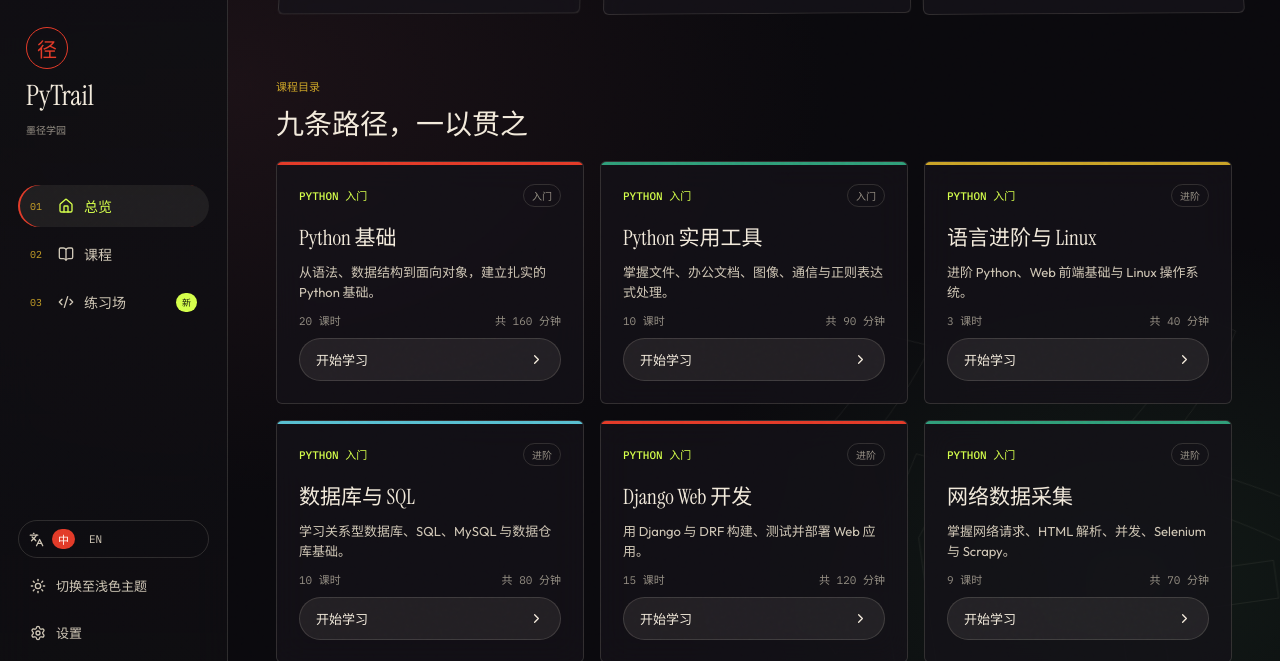
it: on-demand course and lesson workflow › renders every quick check of a multi-exercise lesson
The width and height of the screenshot is (1280, 661).
(page scrolled)
Click the button "开始学习" below "20 课时" at (342, 360), box [299,338,561,381]
(page scrolled)
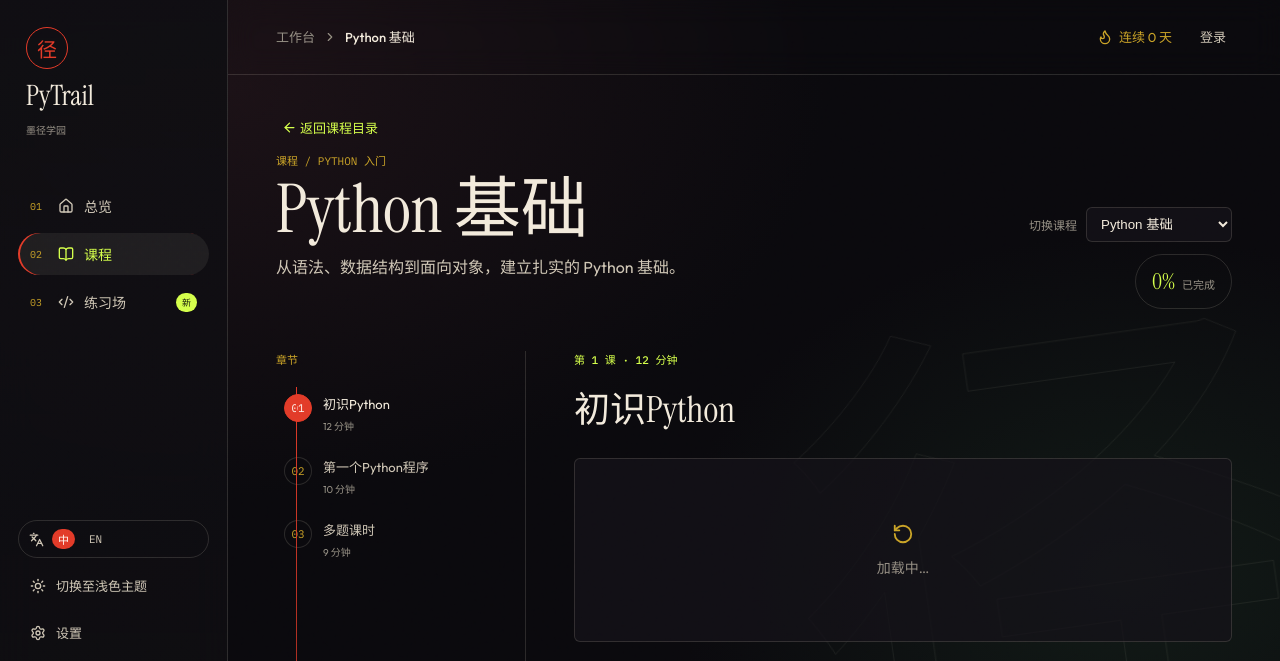
Result: the heading "初识Python" is shown at [574,386,735,433]
Click the button "03 多题课时 9 分钟" at (388, 540), box [276,508,501,571]
(page scrolled)
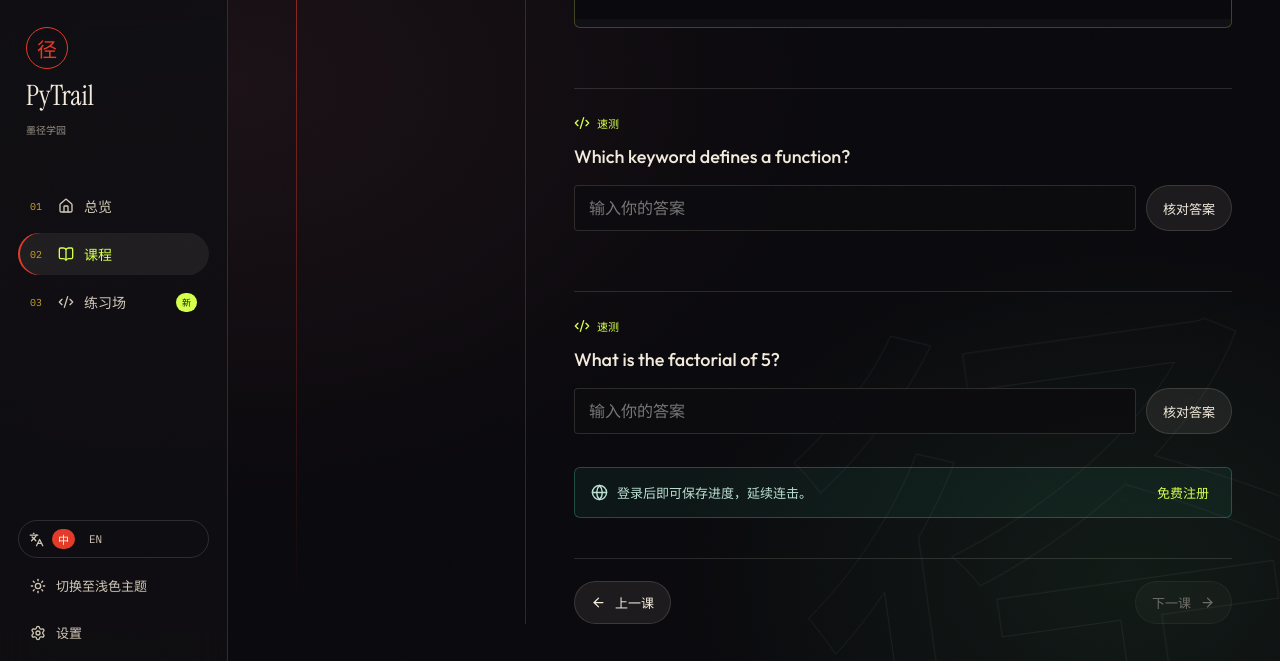
Result: the number of elements with test id "quick-check" is 2 at [574,88,1232,231]; [574,291,1232,434]
Result: the heading "Which keyword defines a function?" is shown at [574,145,850,168]
Result: the heading "What is the factorial of 5?" is shown at [574,348,780,371]
